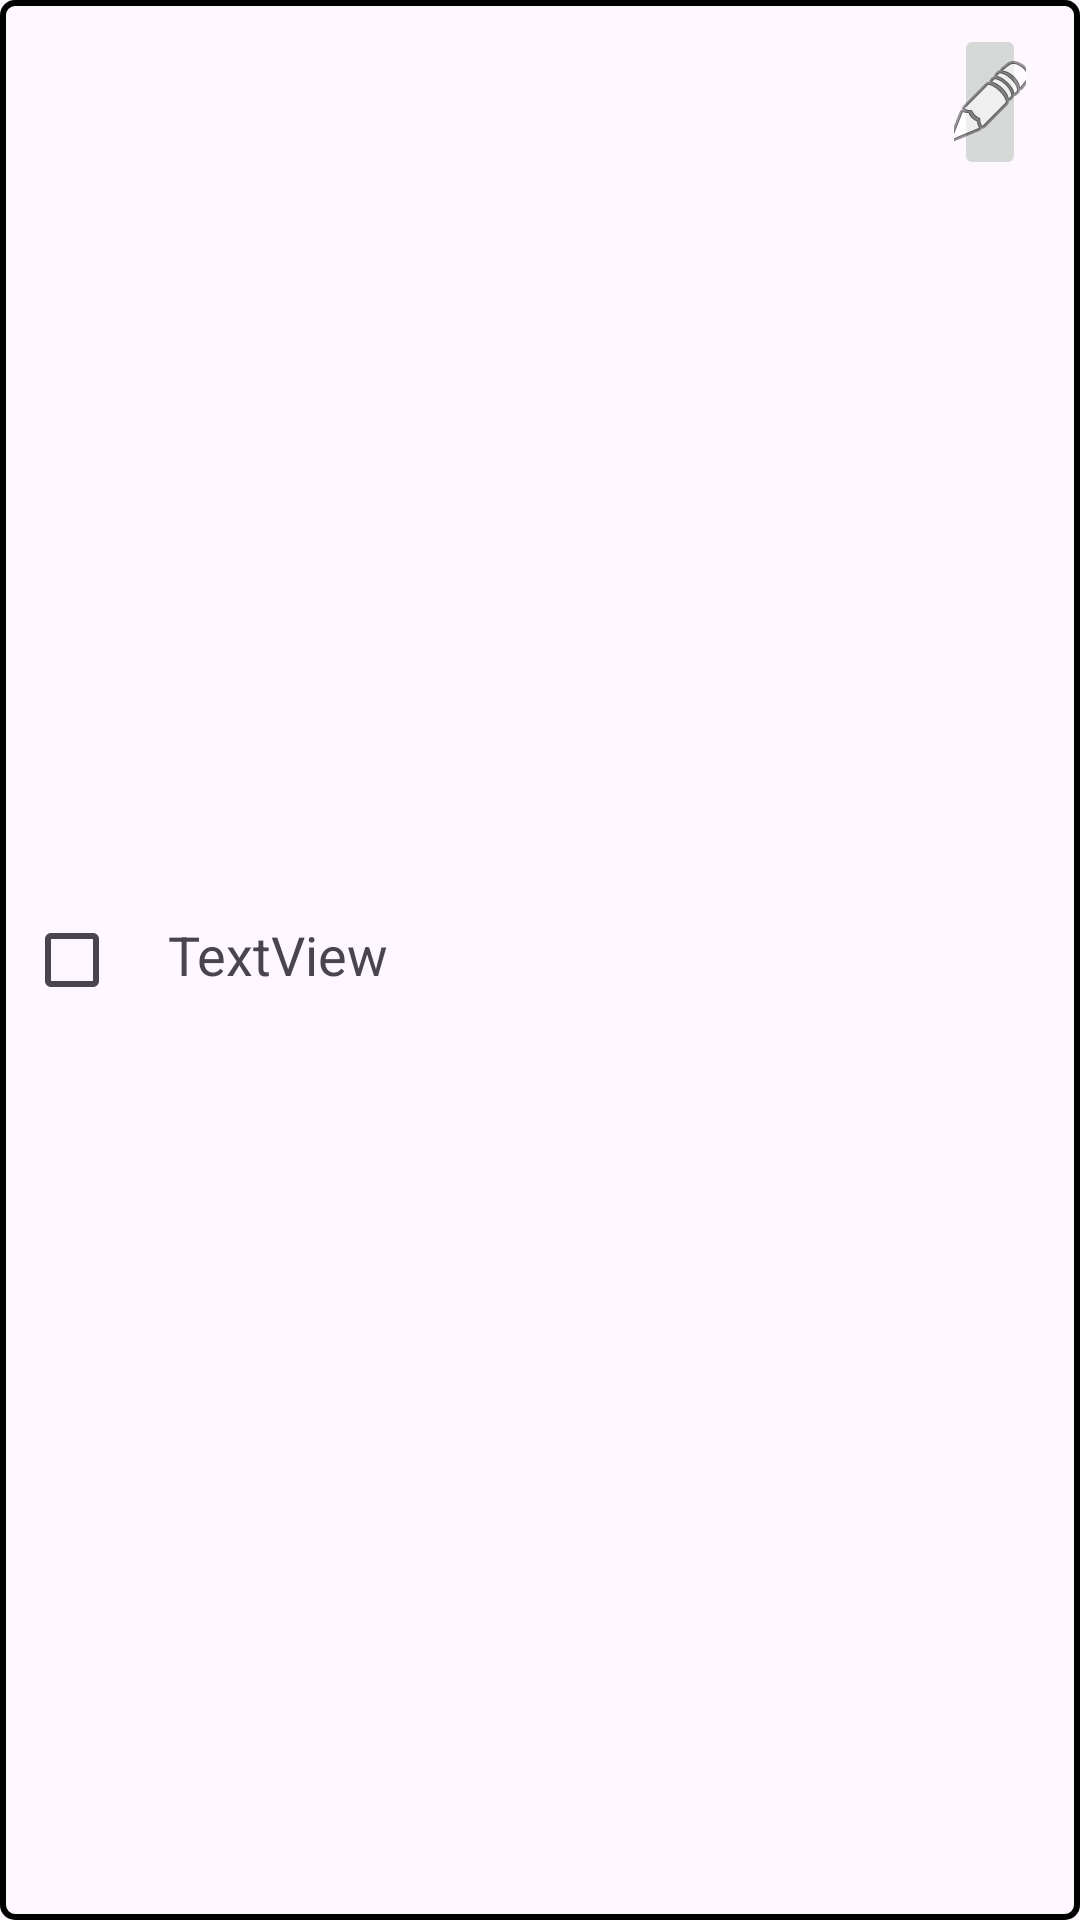

Screen size 1080px x 1920px. Icon name, then its box in pixels as (x1, y1, x2, y2):
edit: (954, 42, 1026, 162)
